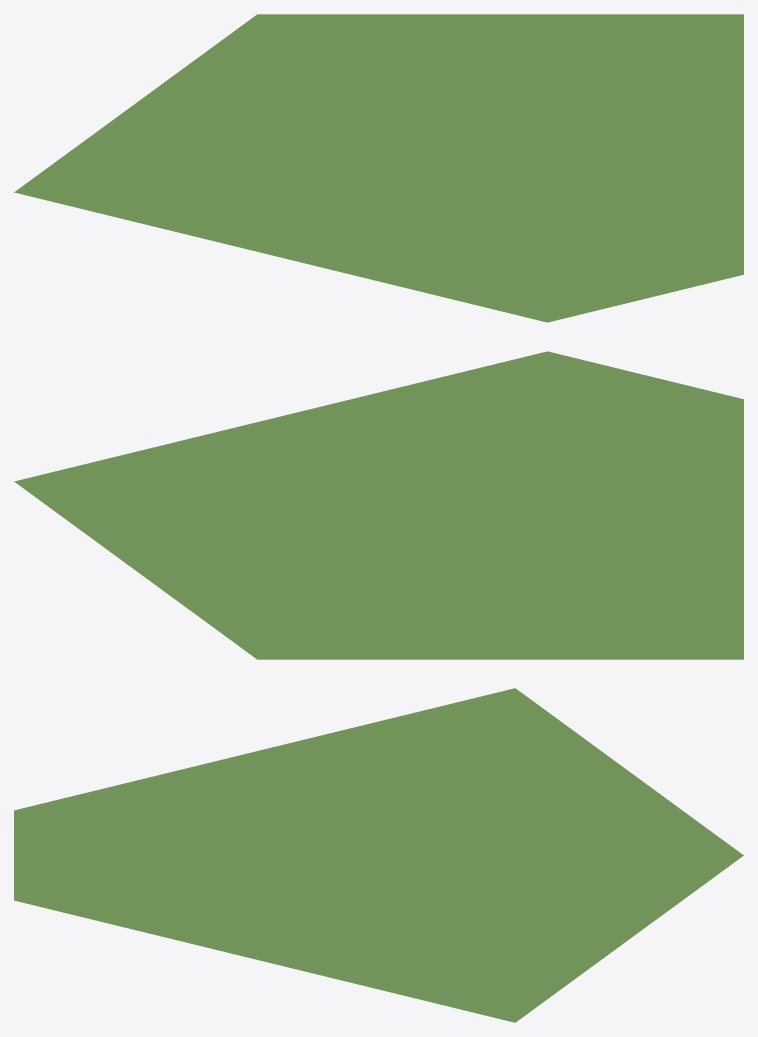
File: Bridge.Edge.A0.1.fbx
The picture shows the model from 3 angles, top to bottom: view 1: azimuth 30°, elevation 25°; view 2: azimuth 150°, elevation 25°; view 3: azimuth 270°, elevation 25°; orthographic projection. The views are drawn at different scales.
Visible parts, largest first — view 1: base.005; view 2: base.005; view 3: base.005.
Part boxes in pixels (x1,y1,x2,y2): base.005: (14,14,743,322); base.005: (14,351,743,659); base.005: (14,688,743,1022).
Size of the model in its own units: 0.4171 by 0.3844 by 0.
